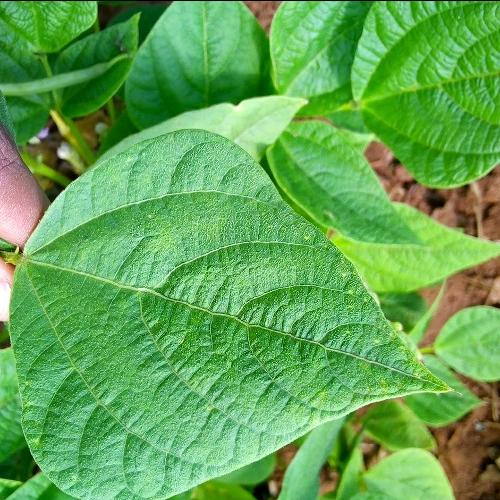sehat: (53, 194, 250, 454)
